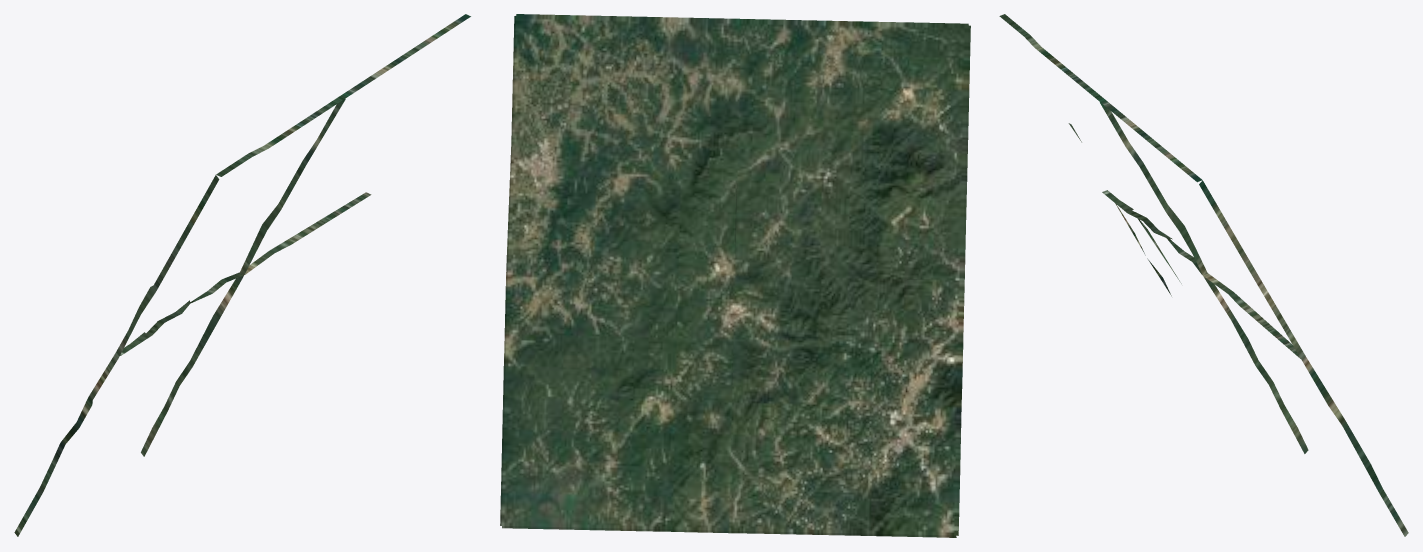
The picture shows the model from 3 angles, left to right: view 1: azimuth 30°, elevation 25°; view 2: azimuth 150°, elevation 25°; view 3: azimuth 270°, elevation 25°; orthographic projection. The views are drawn at different scales.
Size of the model in its own units: 79188 by 70118 by 64843.
1 material, 1 textured.
